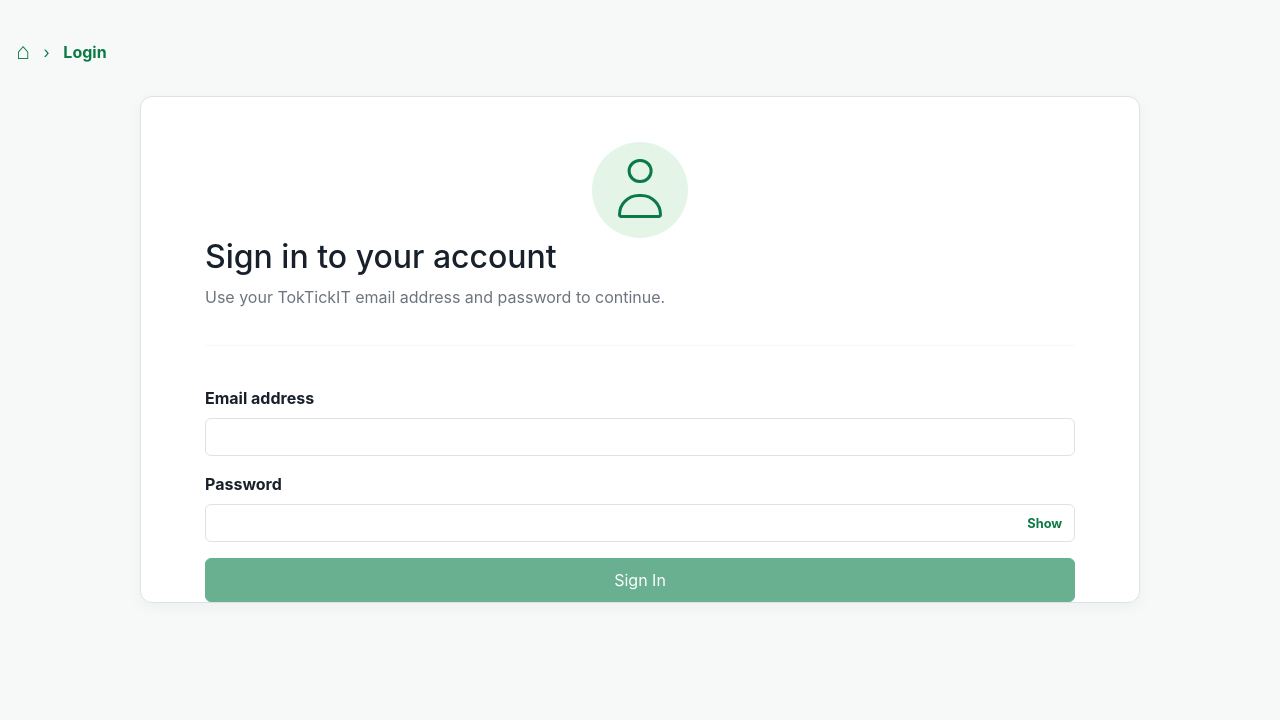
Test: Authentication entry regression › shows a safe failure message
In the field labelled "Email address": coordinates (640, 437) [205,418,1075,456], type "active@example.com"
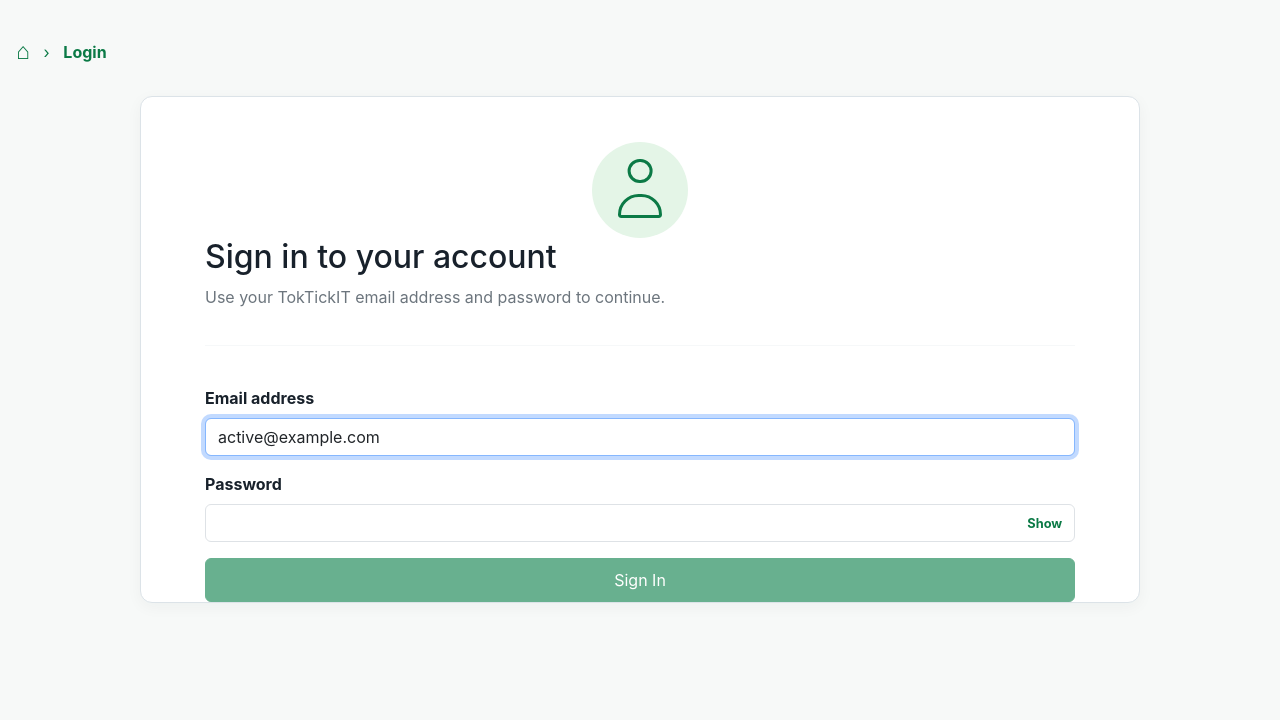
In the password field labelled "Password": coordinates (640, 523) [205,504,1075,542], type "Password123!"
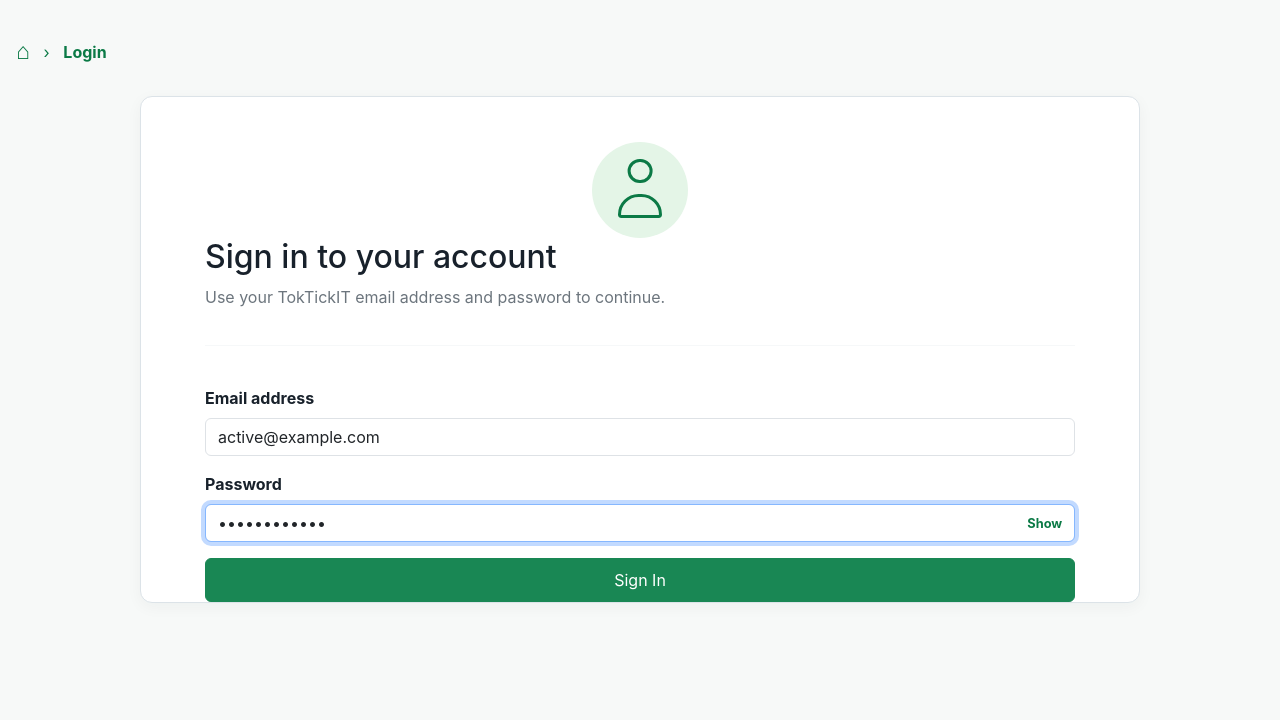
Click the button "Sign In": coordinates (640, 580) [205,558,1075,602]
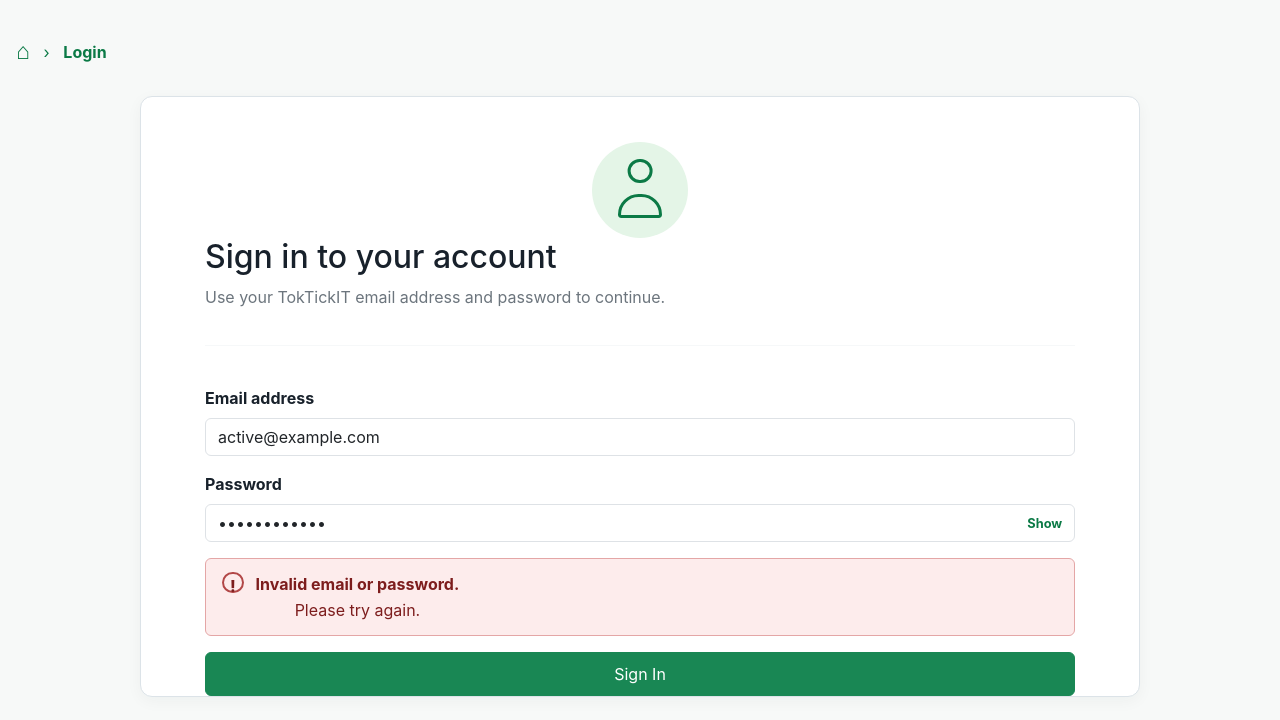
Expected: the message does not show "credentials", [205,558,1075,636]
Now the message shows "Invalid email or password", box [256,574,459,594]
